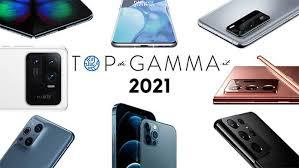Smartphone: (214, 113, 297, 168), (0, 45, 68, 109), (110, 101, 174, 168), (204, 0, 299, 45), (0, 117, 79, 168), (216, 66, 299, 105), (113, 0, 178, 49), (1, 0, 92, 34)
